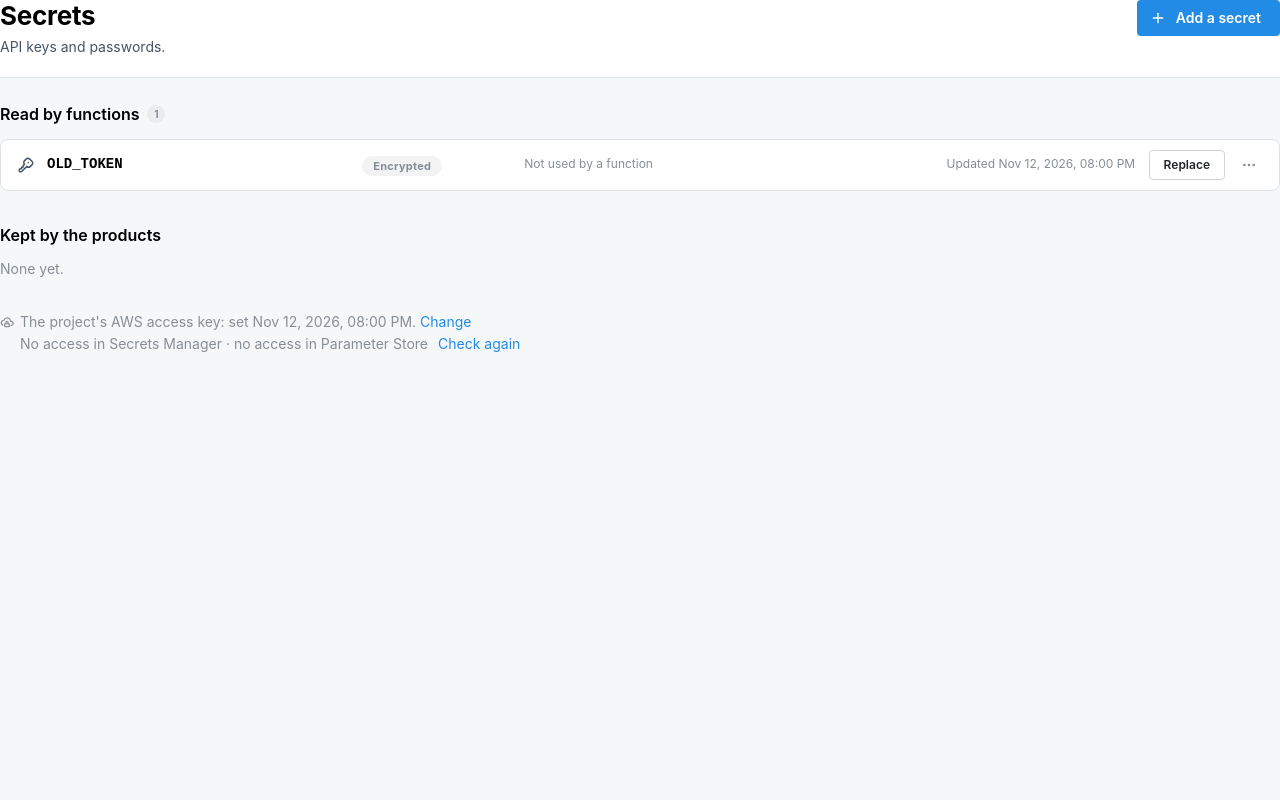
Scenario: no rights in AWS: just the value, no Reference or In AWS, no Move to AWS
The image size is (1280, 800).
Click the button named "More for OLD_TOKEN" at point(1249, 165), box [1235,151,1263,179]
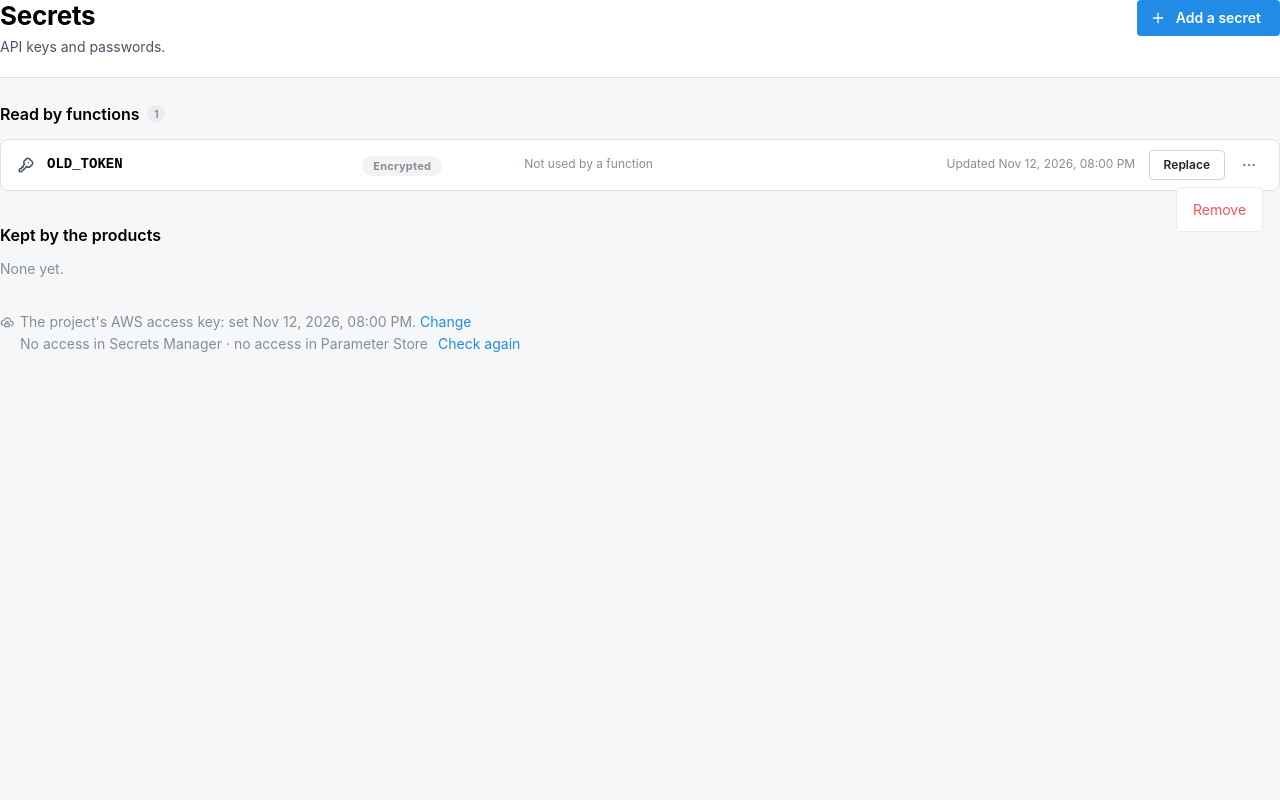
Expected: the menu item "Remove" is shown, [1181,192,1258,227]
Press Escape
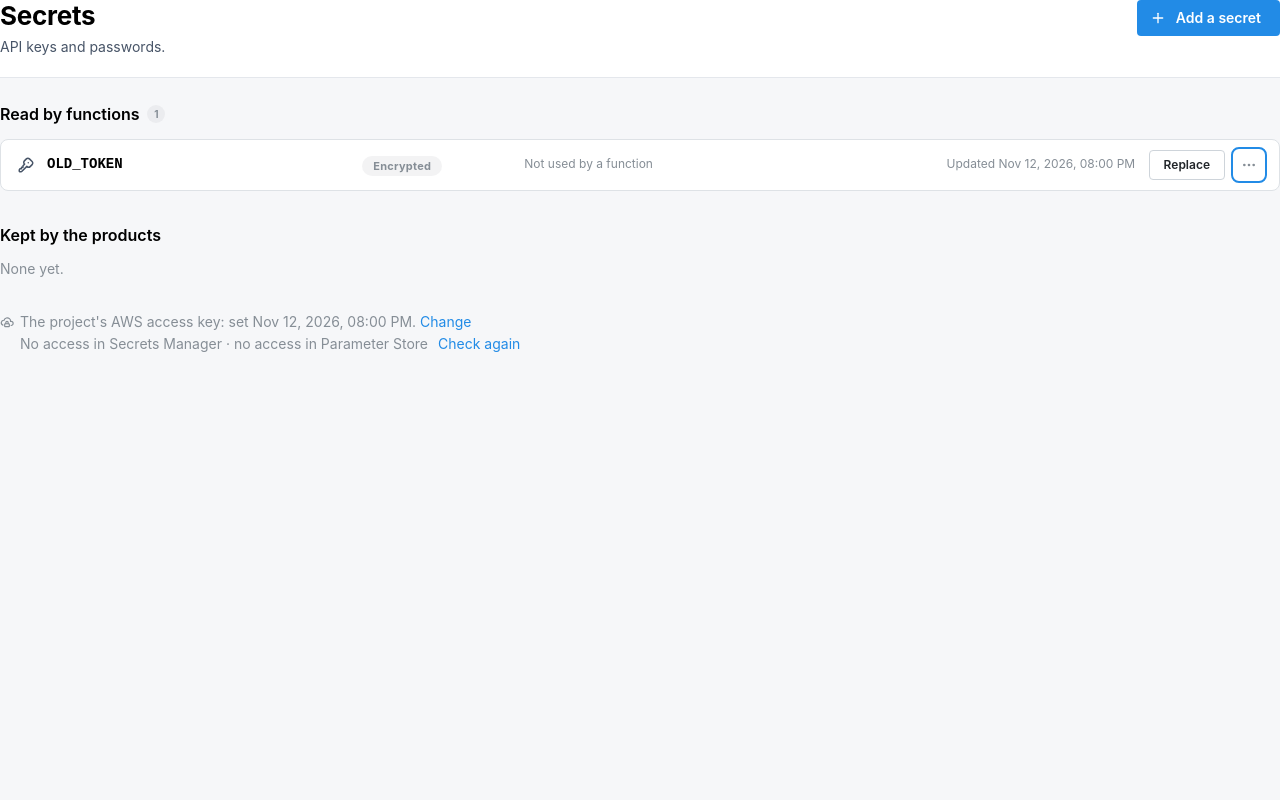
Click the button "Replace" at point(1187, 165), box [1149,150,1225,180]
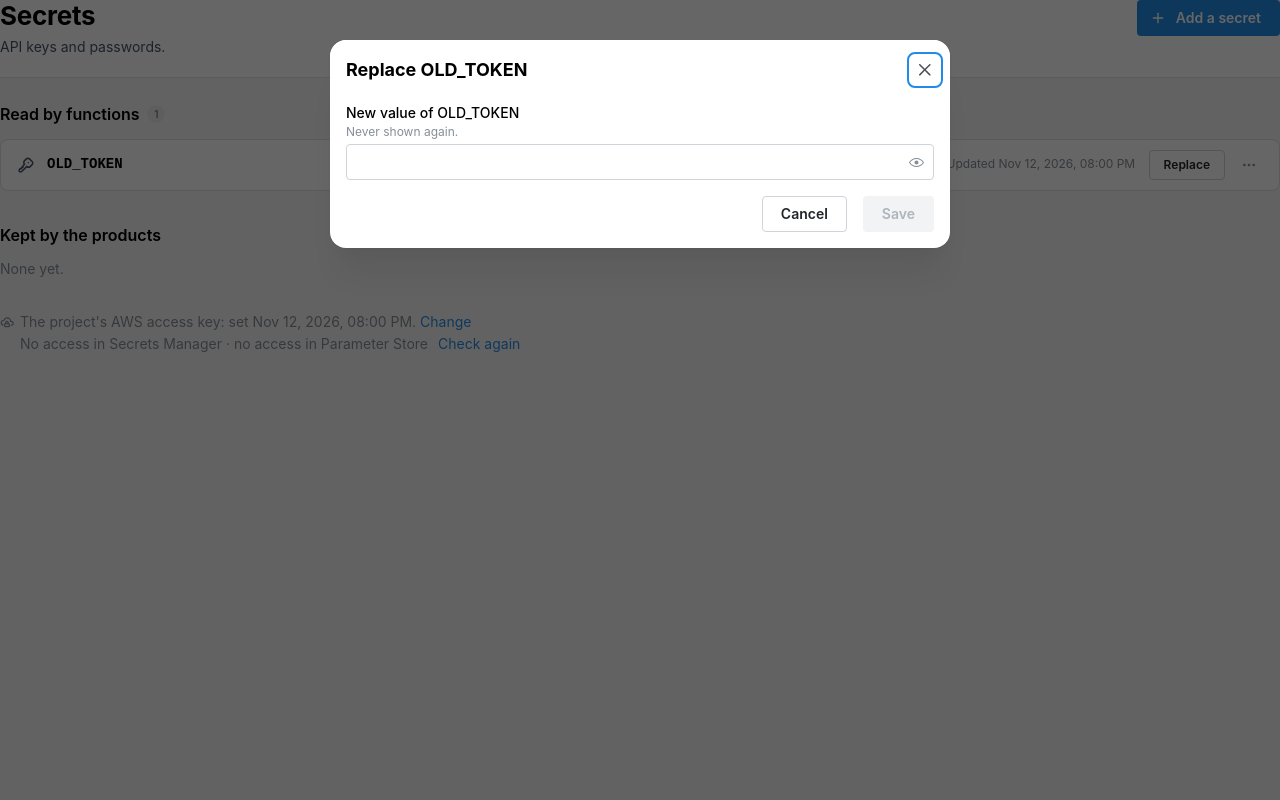
Expected: the password field labelled "New value of OLD_TOKEN" is shown, [347,145,933,179]
